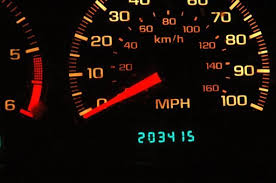Digital_Meter: (128, 126, 202, 150)
